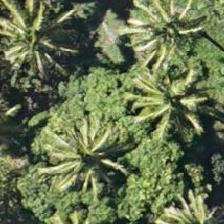coconut_tree: (42, 112, 132, 202), (138, 59, 223, 149), (0, 0, 75, 79), (128, 0, 218, 64)
